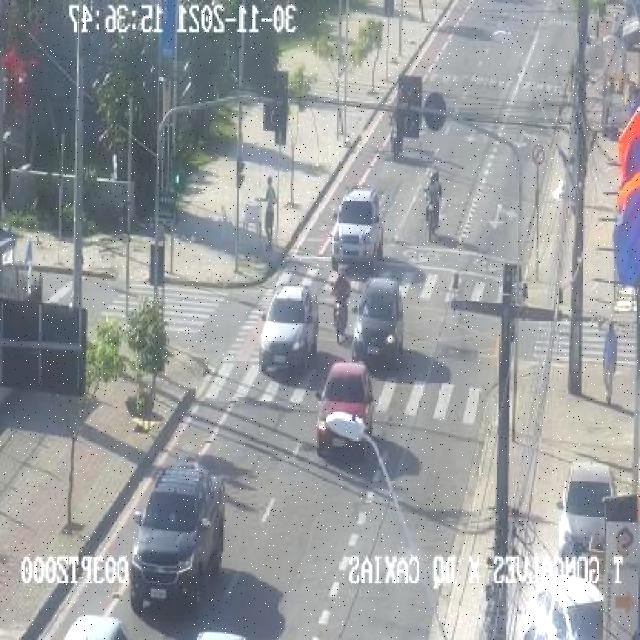Car: (124, 461, 225, 619), (315, 362, 372, 459), (260, 285, 319, 371), (350, 278, 406, 367), (330, 186, 384, 270)
Cycle: (330, 261, 351, 348), (424, 169, 444, 241)
